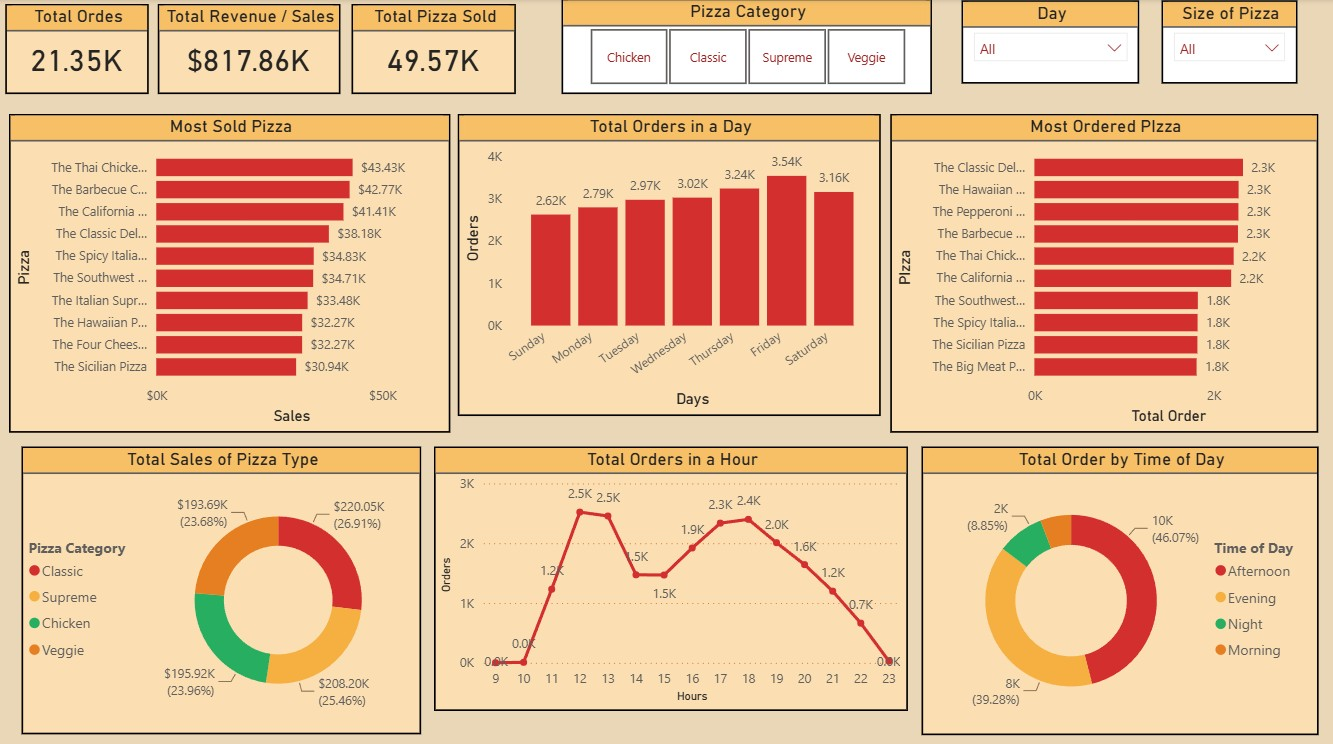

The dashboard page shown, as its layout file describes it:
{"tool":"powerbi","page":{"name":"Page 1","canvas":[1280,720],"ordinal":0},"visuals":[{"type":"card","title":"Total Ordes","fields":{"Values":["Orders.Total Order"]},"box":[5.8,4.7,137.8,86.3],"z":0},{"type":"card","title":"Total Pizza Sold","fields":{"Values":["Order Details.Total Pizza Sold"]},"box":[338.4,4.7,157.9,86.3],"z":1000},{"type":"card","title":"Total Revenue / Sales","fields":{"Values":["Order Details.Total Revenue"]},"box":[152.6,4.5,175,86.3],"z":2000},{"type":"donutChart","title":"Total Sales of Pizza Type","fields":{"Category":["Pizza Type.category"],"Y":["Order Details.Total Revenue"]},"box":[21.5,429.7,383.3,275.9],"z":3000},{"type":"clusteredBarChart","title":"Most Sold Pizza","fields":{"Category":["Pizza Type.name"],"Y":["Order Details.Total Revenue"]},"box":[10.2,109.7,422.9,305.3],"z":4000},{"type":"clusteredColumnChart","title":"Total Orders in a Day","fields":{"Category":["DateTable.Day Name"],"Y":["Orders.Total Order"]},"box":[439.8,109.7,405.9,289.4],"z":5000},{"type":"slicer","title":"Day","fields":{"Values":["DateTable.Day Name"]},"box":[922.6,1.1,170.7,80.3],"z":6000},{"type":"slicer","title":"Pizza Category","fields":{"Values":["Pizza Type.category"]},"box":[539.3,0,355,91.2],"z":7000},{"type":"slicer","title":"Size of Pizza","fields":{"Values":["Pizza.size"]},"box":[1114.8,1.1,130,80.3],"z":8000},{"type":"clusteredBarChart","title":"Most Ordered PIzza","fields":{"Category":["Pizza Type.name"],"Y":["Orders.Total Order"]},"box":[854.8,109.7,410.4,305.3],"z":9000},{"type":"lineChart","title":"Total Orders in a Hour","fields":{"Category":["Orders.Hour"],"Y":["Orders.Total Order"]},"box":[417.2,429.7,454.5,253.3],"z":10000},{"type":"donutChart","fields":{"Category":["Orders.Time of Day"],"Y":["Orders.Total Order"]},"box":[884.2,428.5,381,277],"z":11000}]}

Visuals, with their boxes in screenshot pixels (x1, y1, x2, y2), scaled from the page's 1280x720 canvas onto the 1333x744 screenshot:
"Total Ordes" card: 6, 5, 150, 94
"Total Pizza Sold" card: 352, 5, 517, 94
"Total Revenue / Sales" card: 159, 5, 341, 94
"Total Sales of Pizza Type" donutChart: 22, 444, 422, 729
"Most Sold Pizza" clusteredBarChart: 11, 113, 451, 429
"Total Orders in a Day" clusteredColumnChart: 458, 113, 881, 412
"Day" slicer: 961, 1, 1139, 84
"Pizza Category" slicer: 562, 0, 931, 94
"Size of Pizza" slicer: 1161, 1, 1296, 84
"Most Ordered PIzza" clusteredBarChart: 890, 113, 1318, 429
"Total Orders in a Hour" lineChart: 434, 444, 908, 706
donutChart - Orders.Time of Day x Orders.Total Order: 921, 443, 1318, 729
